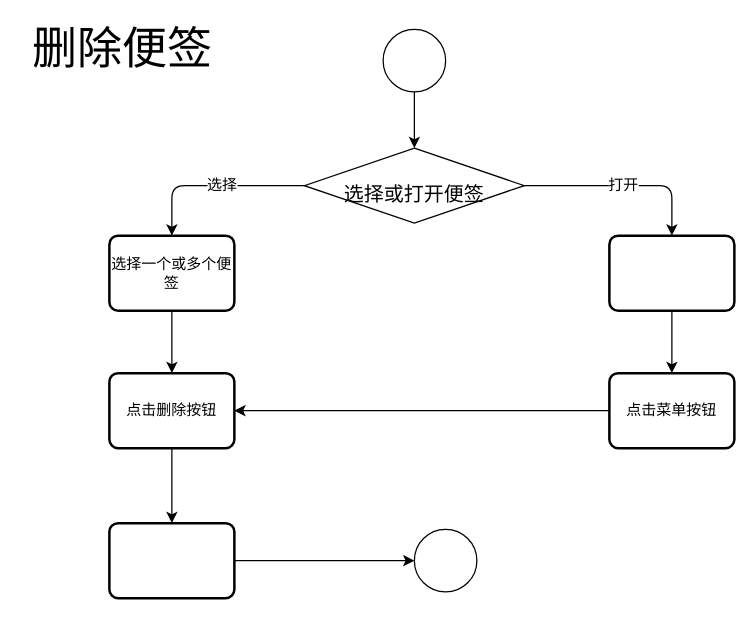
Image size: 756x621. Some labels were removed from this diagram. Here are the shapes that lost their labels. From the top down, the centre of each, then its label:
At pixel 671 272: "打开一个便签".
At pixel 171 560: "删除选中便签".
